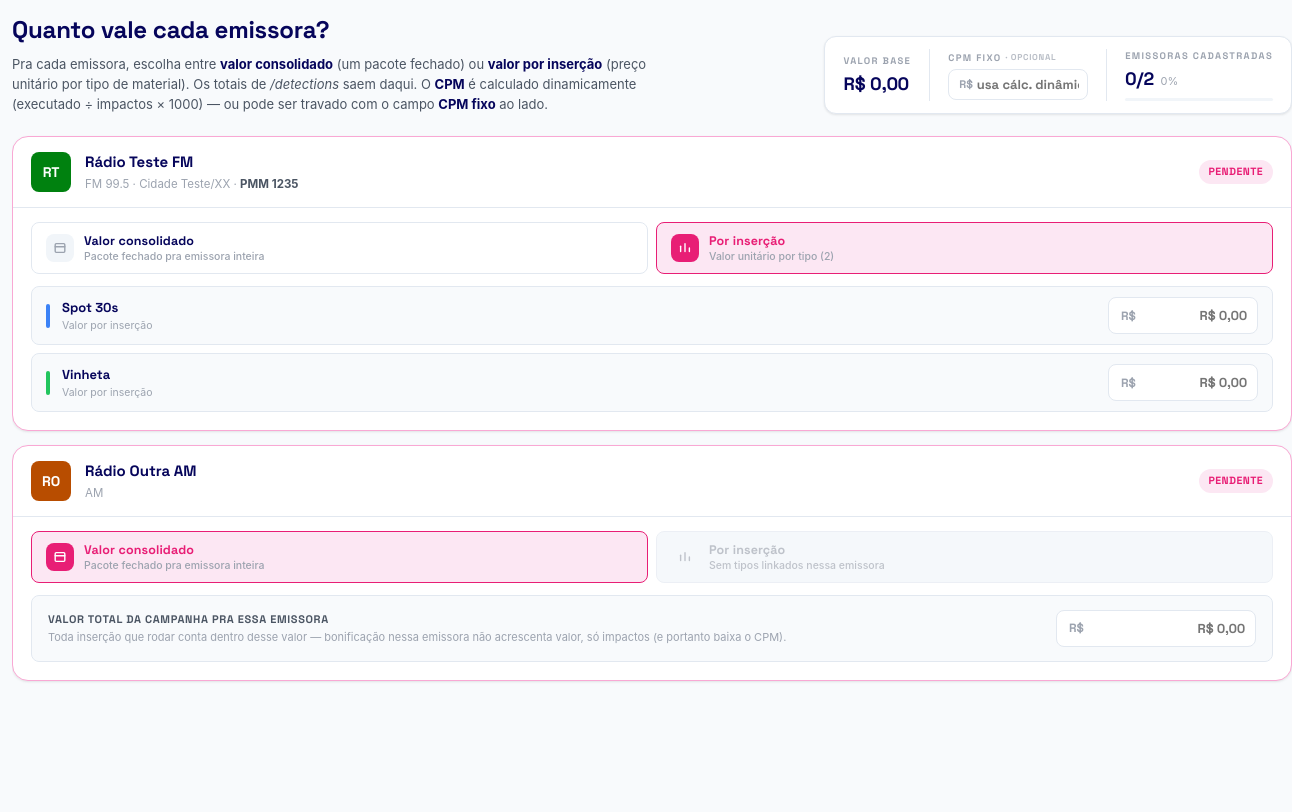
Scenario: PricingStep — cartões por emissora › digitar valor com vírgula e milhar vira número; ao sair do campo formata com 2 casas
Expected: the text "Rádio Teste FM" is shown, [85,152,193,171]
Type "1.500,75" into the 3rd field with placeholder "R$ 0,00" at (1172, 628), box [1090,611,1255,646]
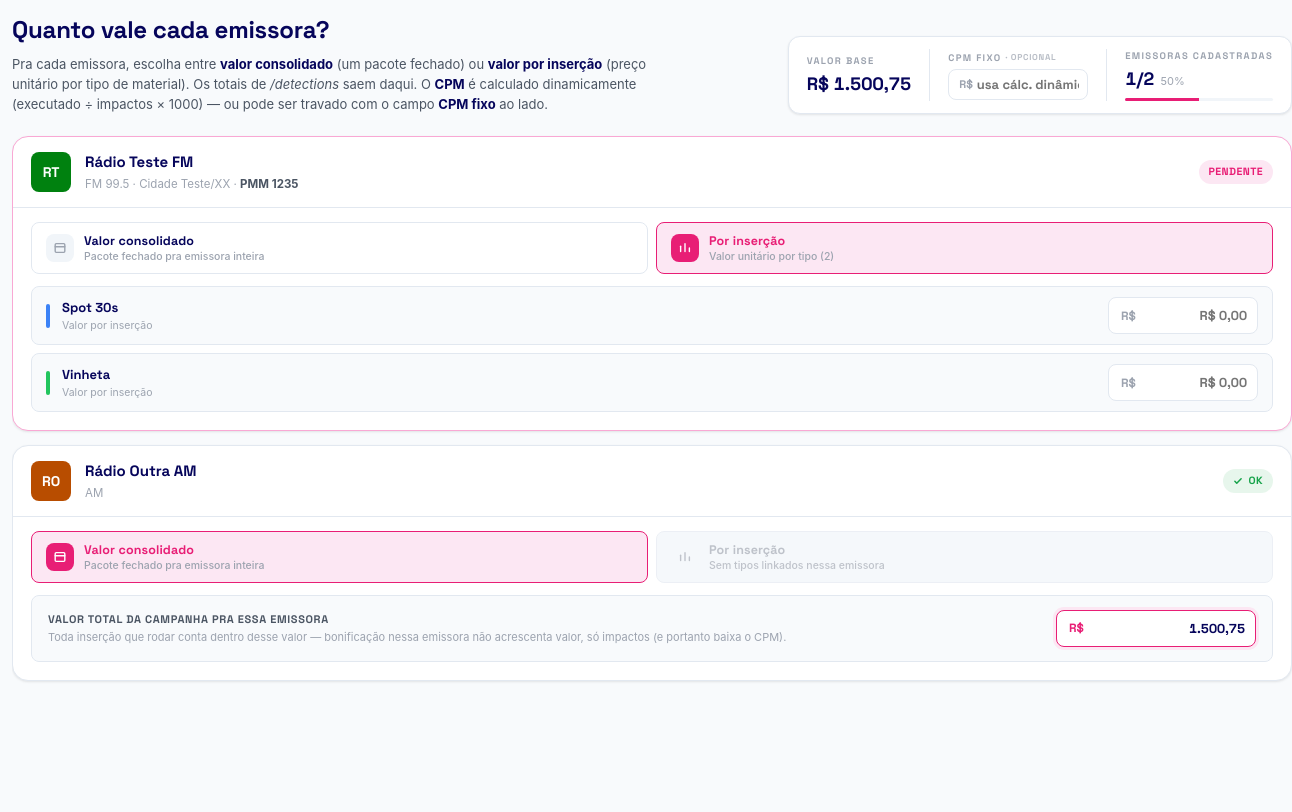
Now the text "R$ 1.500,75" is shown, box [807,70,911,97]
Leave the 4th field, box [1090,611,1255,646]
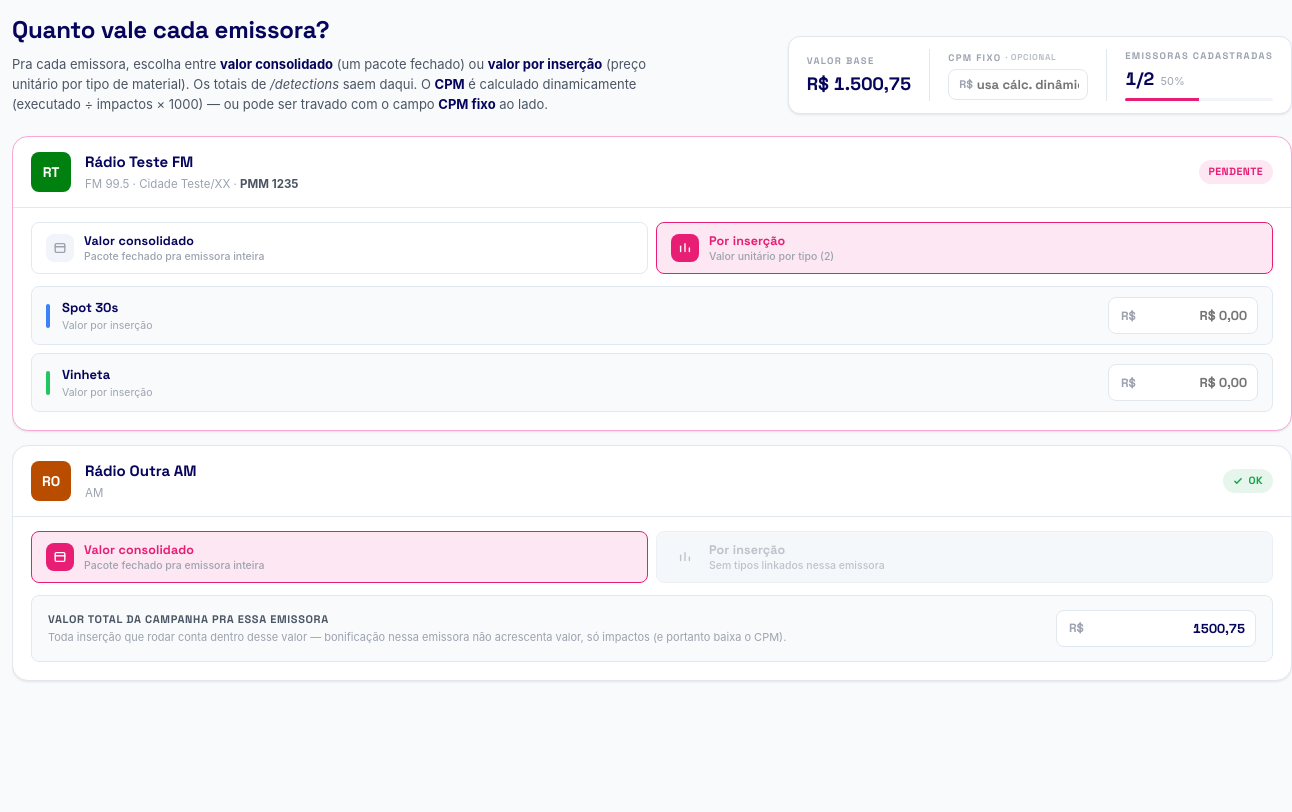
Now the text "OK" is shown, box [1224,469,1273,493]
Now the text "1/2" is shown, box [1125,65,1154,92]
Now the 4th field holds "1500,75", box [1090,611,1255,646]
